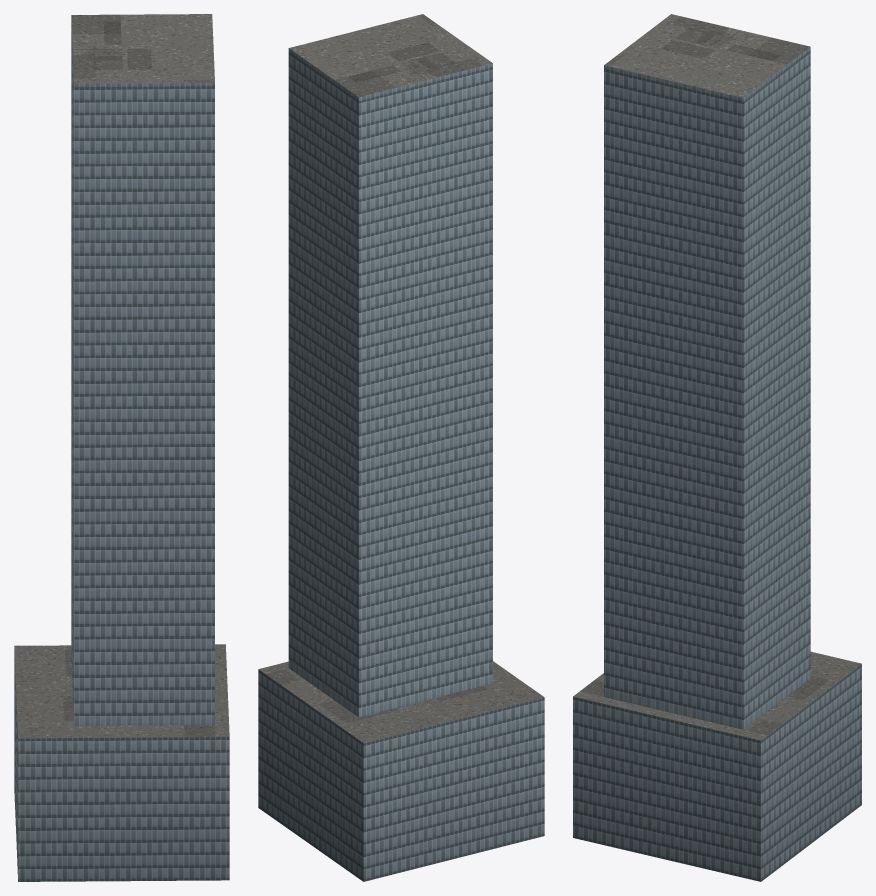
File: bloomberg.glb
The picture shows the model from 3 angles, left to right: view 1: azimuth 30°, elevation 25°; view 2: azimuth 150°, elevation 25°; view 3: azimuth 270°, elevation 25°; orthographic projection. The views are drawn at different scales.
Visible parts, largest first — view 1: bloomberg; view 2: bloomberg; view 3: bloomberg.
Boxes of the visible parts, left/top/right/bottom form: bloomberg: left=14, top=14, right=229, bottom=881; bloomberg: left=258, top=14, right=544, bottom=881; bloomberg: left=573, top=14, right=861, bottom=881.
Bounding box in the file's own units: 82.54 × 246 × 83.31.
Materials: 4 (4 with a texture image).
